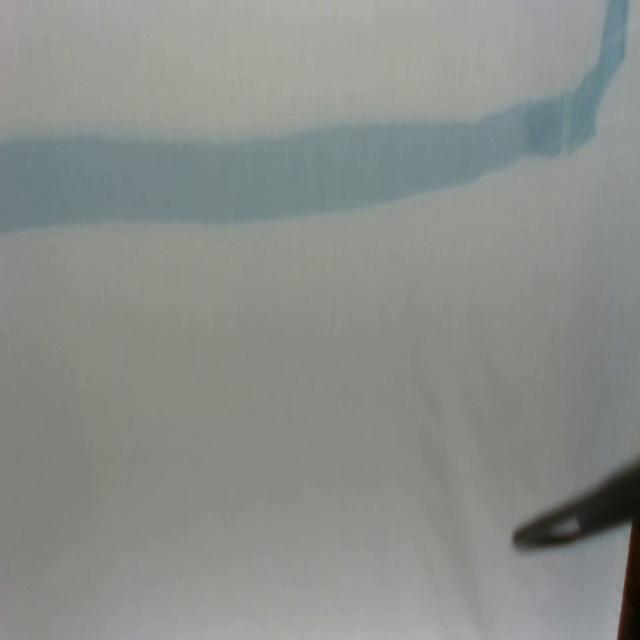color bleeding: (0, 0, 632, 241)
